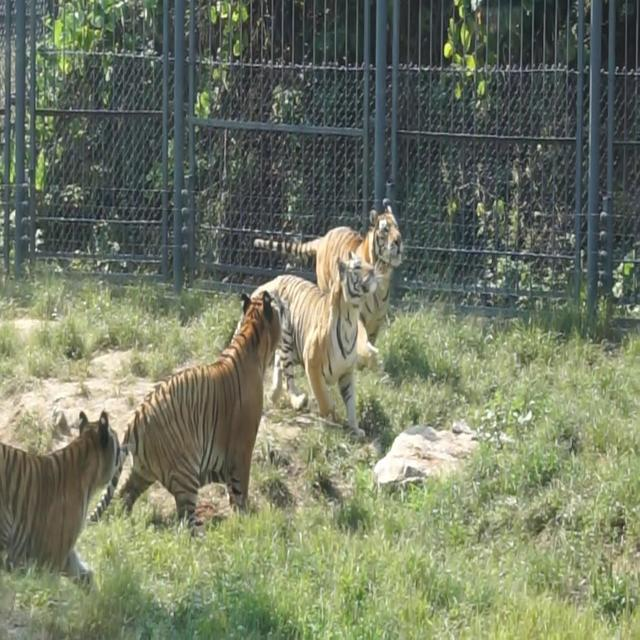tiger: (91, 290, 284, 534), (244, 250, 380, 439), (252, 201, 403, 366), (0, 407, 122, 595)
